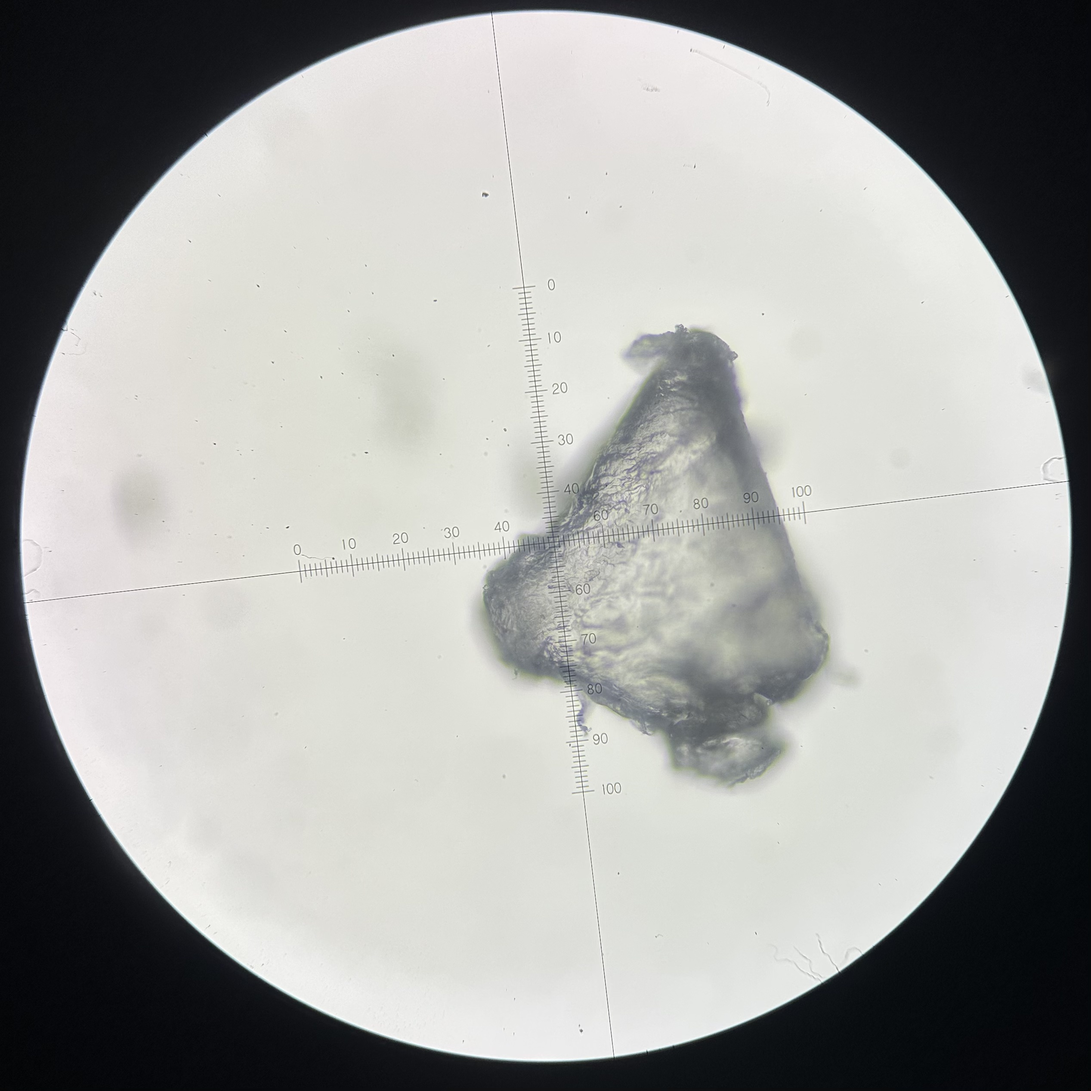microplastic: (477, 321, 836, 791)
